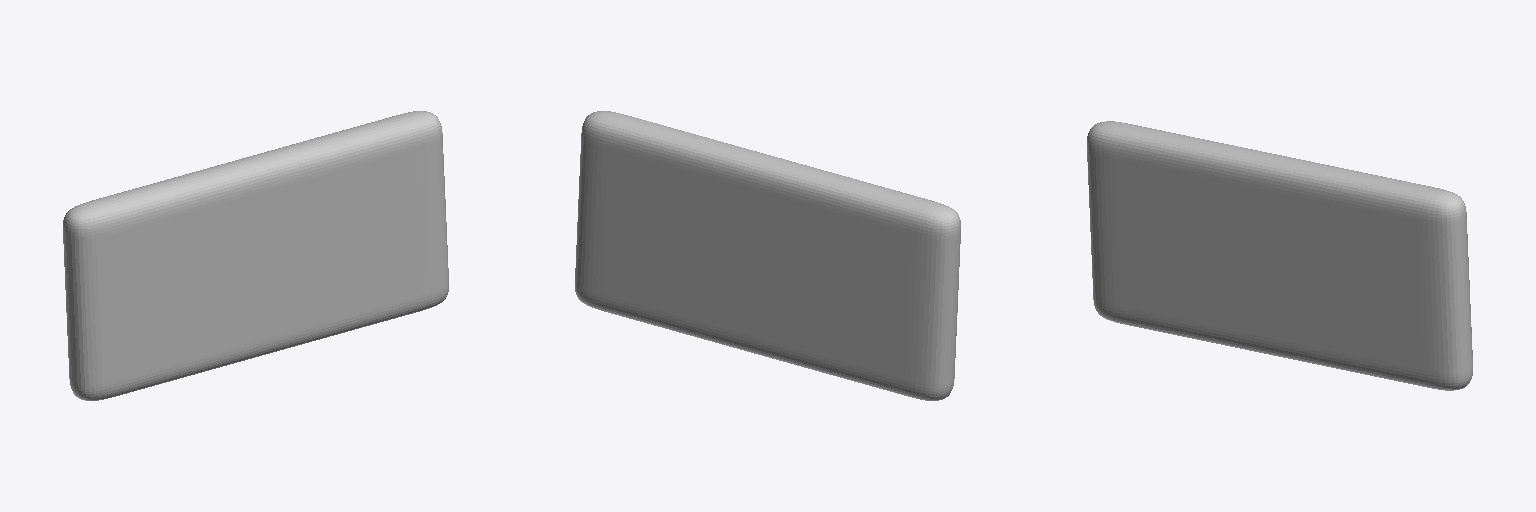
Rendered from OpponentNamePM3D_Cube3D1_1.OBJ.
3 views of the same model, side by side, from view 1: azimuth 30°, elevation 25°; view 2: azimuth 150°, elevation 25°; view 3: azimuth 330°, elevation 25° (orthographic).
Parts seen in each view (by area): view 1: ZBrushPolyMesh3D; view 2: ZBrushPolyMesh3D; view 3: ZBrushPolyMesh3D.
Part boxes in pixels (x1,y1,x2,y2): ZBrushPolyMesh3D: (63, 111, 448, 400); ZBrushPolyMesh3D: (575, 111, 960, 400); ZBrushPolyMesh3D: (1087, 121, 1472, 390).
Bounding box in the file's own units: 0.7541 × 0.3892 × 0.0759.